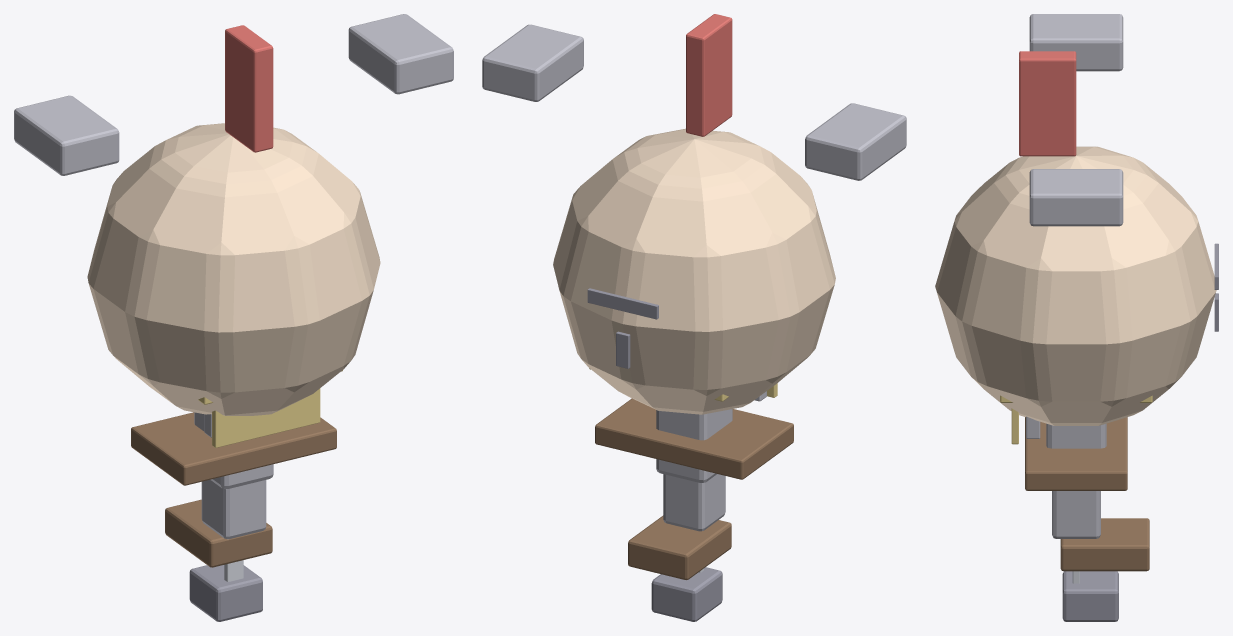
File: knight_v2.glb
3 renders of one model, left to right at view 1: azimuth 30°, elevation 25°; view 2: azimuth 150°, elevation 25°; view 3: azimuth 270°, elevation 25°, orthographic. The views are drawn at different scales.
Parts seen in each view (by area): view 1: Knight_Skull, Knight_Belt, Knight_PadL, Knight_PadR, Knight_Plume, Knight_BootL, Knight_ArmL, Knight_GauntletL, Knight_ShieldRim, Knight_LegL; view 2: Knight_Skull, Knight_Belt, Knight_PadL, Knight_PadR, Knight_Plume, Knight_BootL, Knight_ArmL, Knight_GauntletL, Knight_LegL, Knight_VisorH; view 3: Knight_Skull, Knight_Plume, Knight_PadR, Knight_Belt, Knight_PadL, Knight_BootL, Knight_GauntletL, Knight_ArmL, Knight_LegL.
Part boxes in pixels (x1=…): Knight_Skull: x1=87, y1=123, x2=380, y2=415; Knight_Belt: x1=131, y1=412, x2=336, y2=485; Knight_PadL: x1=14, y1=95, x2=119, y2=175; Knight_PadR: x1=348, y1=14, x2=453, y2=94; Knight_Plume: x1=225, y1=25, x2=273, y2=152; Knight_BootL: x1=165, y1=499, x2=272, y2=567; Knight_ArmL: x1=201, y1=480, x2=266, y2=539; Knight_GauntletL: x1=189, y1=565, x2=262, y2=621; Knight_ShieldRim: x1=212, y1=388, x2=320, y2=447; Knight_LegL: x1=194, y1=412, x2=273, y2=489; Knight_Skull: x1=553, y1=128, x2=835, y2=414; Knight_Belt: x1=595, y1=398, x2=793, y2=479; Knight_PadL: x1=805, y1=103, x2=906, y2=180; Knight_PadR: x1=482, y1=24, x2=583, y2=101; Knight_Plume: x1=686, y1=14, x2=732, y2=136; Knight_BootL: x1=628, y1=515, x2=731, y2=580; Knight_ArmL: x1=663, y1=474, x2=725, y2=531; Knight_GauntletL: x1=651, y1=567, x2=722, y2=621; Knight_LegL: x1=656, y1=409, x2=732, y2=482; Knight_VisorH: x1=587, y1=288, x2=658, y2=319; Knight_Skull: x1=935, y1=146, x2=1216, y2=425; Knight_Plume: x1=1019, y1=51, x2=1076, y2=156; Knight_PadR: x1=1029, y1=169, x2=1123, y2=226; Knight_Belt: x1=1025, y1=417, x2=1127, y2=490; Knight_PadL: x1=1029, y1=14, x2=1123, y2=71; Knight_BootL: x1=1060, y1=518, x2=1149, y2=571; Knight_GauntletL: x1=1062, y1=571, x2=1118, y2=621; Knight_ArmL: x1=1052, y1=491, x2=1100, y2=538; Knight_LegL: x1=1046, y1=423, x2=1106, y2=448.
Size of the model in its own units: 0.6 by 0.855 by 0.3944.
